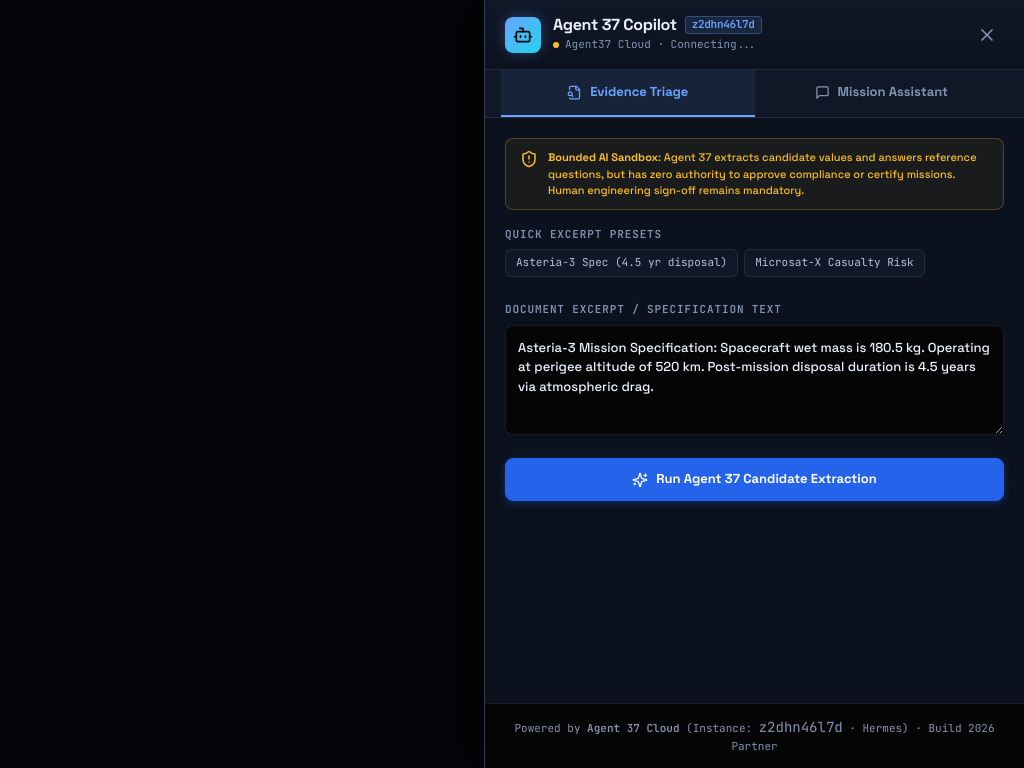
Scenario: Agent 37 Copilot Integration › imports extracted candidate evidence with strictly unconfirmed state
This screenshot has width=1024, height=768.
Step 1. Click the button "Run Agent 37 Candidate Extraction" → (754, 480), box left=505, top=458, right=1004, bottom=501
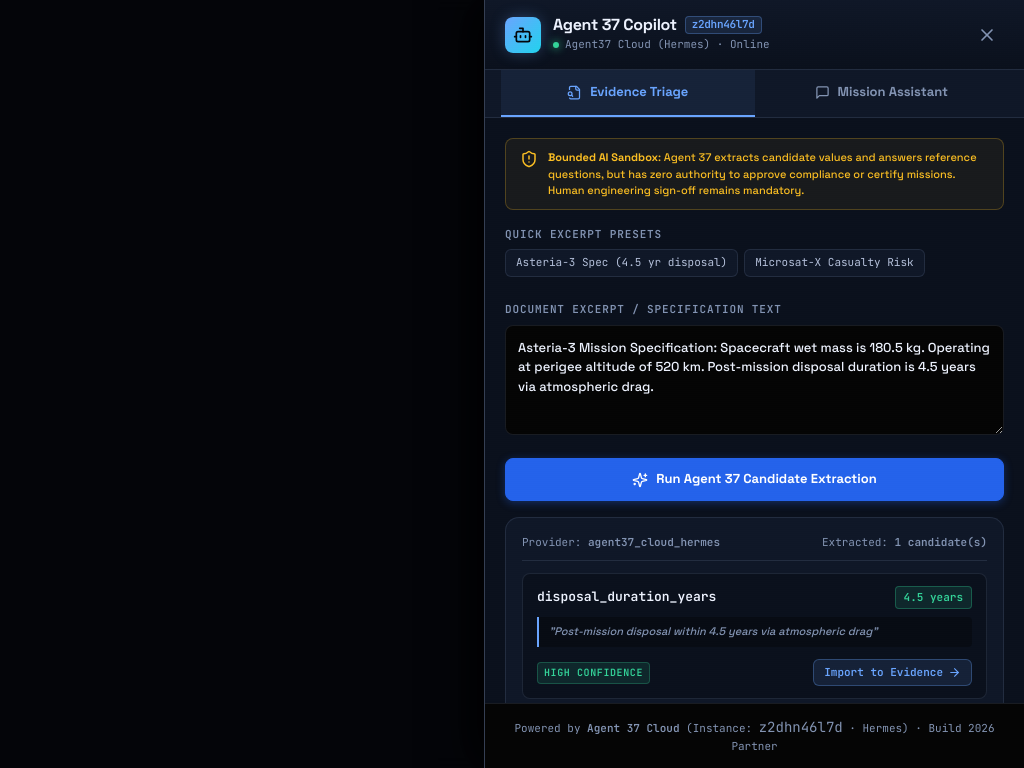
Now the text "disposal_duration_years" is shown, box left=537, top=587, right=716, bottom=608
Step 2. Click the button "Import to Evidence" → (893, 672), box left=813, top=659, right=972, bottom=686
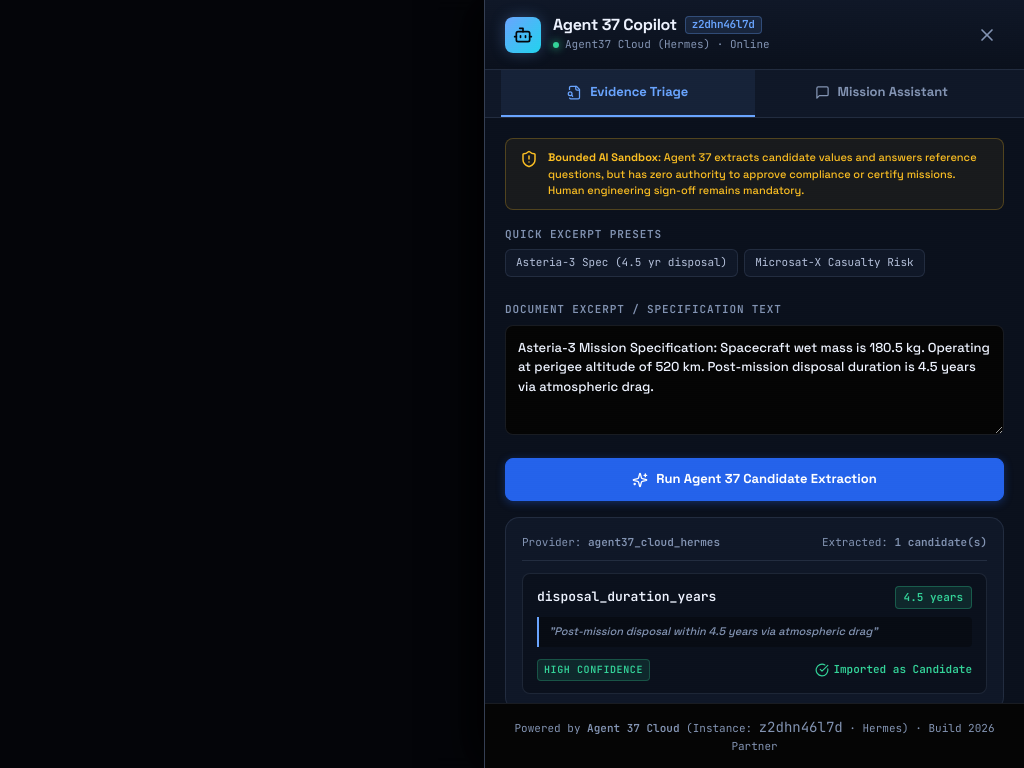
Now the text "Imported as Candidate" is shown, box left=815, top=661, right=972, bottom=678
